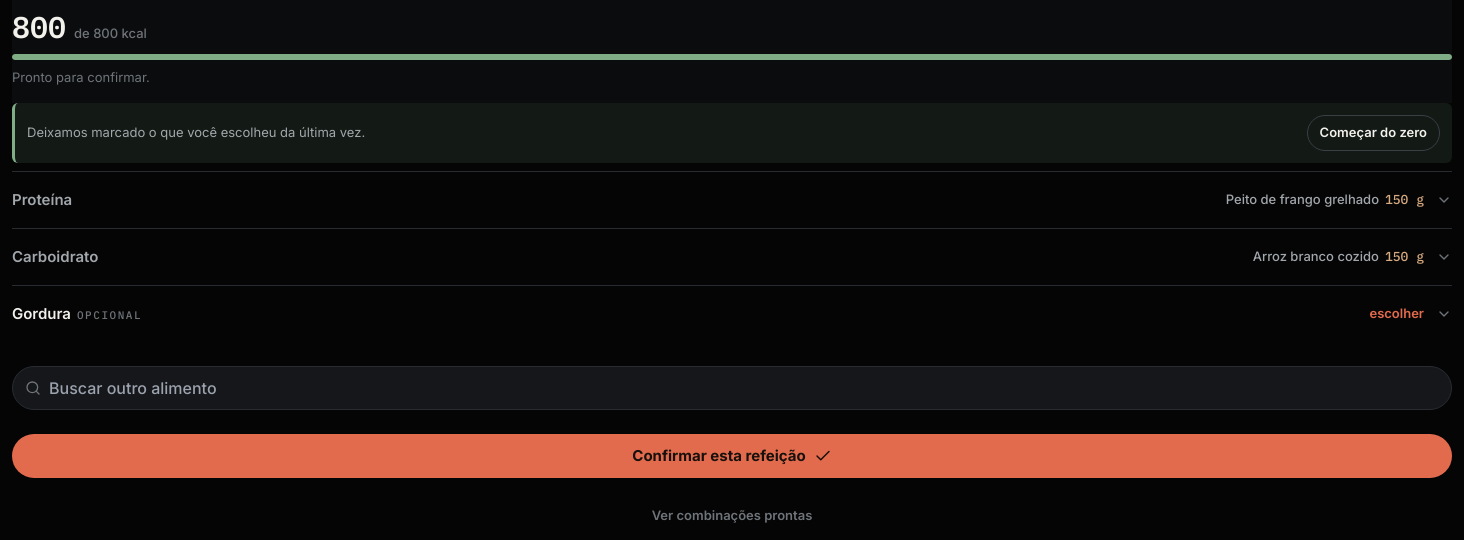
comecar do zero limpa a sugestao
Click the button "Começar do zero" at [1373, 133], box [1307,115,1440,151]
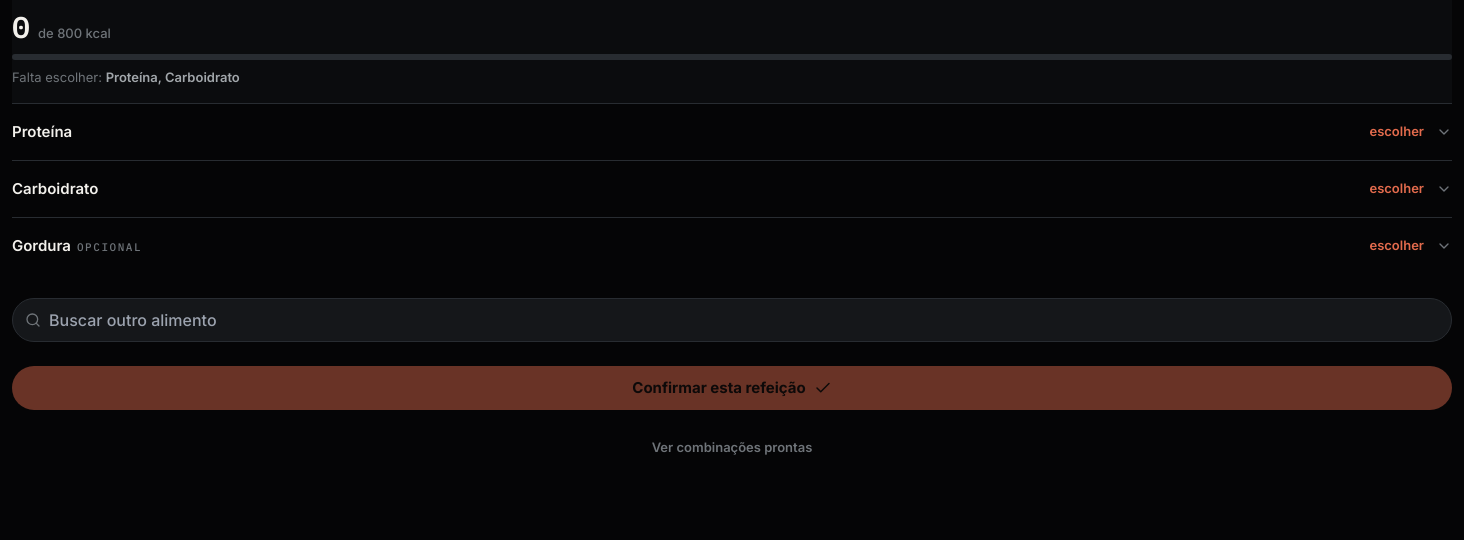
Check: the element with test id "montar-sugestao" is gone
